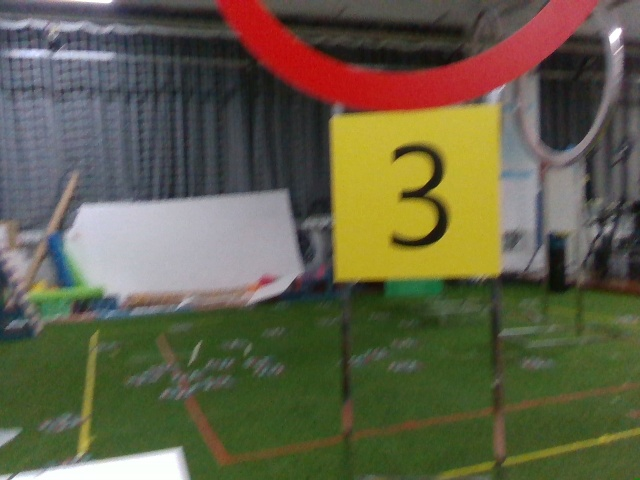target: (329, 117, 485, 275)
